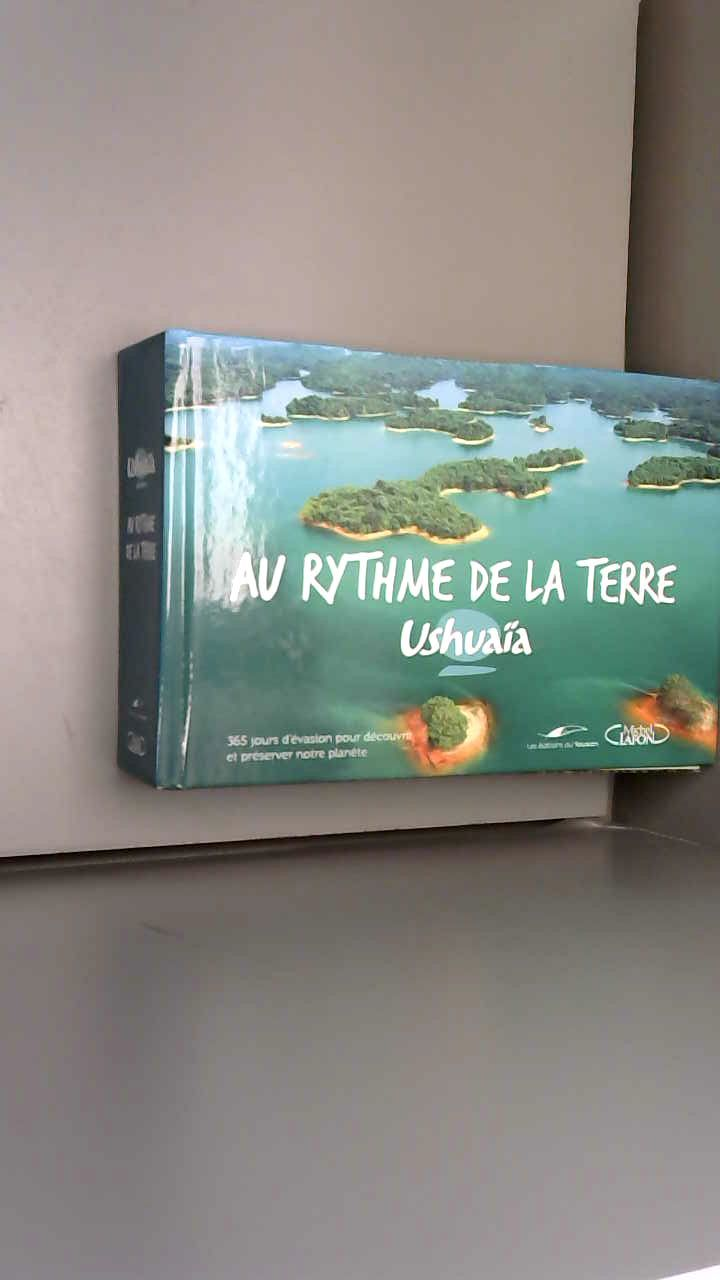book: (78, 303, 711, 821)
